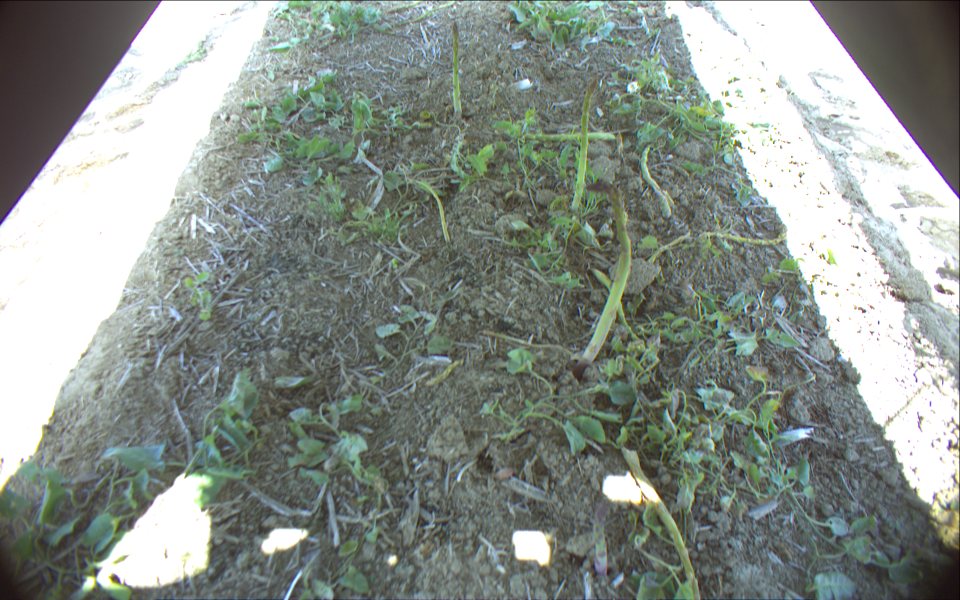aspa: (621, 448, 698, 600), (580, 185, 631, 365), (573, 79, 597, 212), (415, 182, 452, 243), (641, 144, 670, 216), (392, 1, 452, 27), (700, 231, 791, 247), (449, 22, 464, 117), (518, 132, 616, 140), (385, 1, 423, 13)
